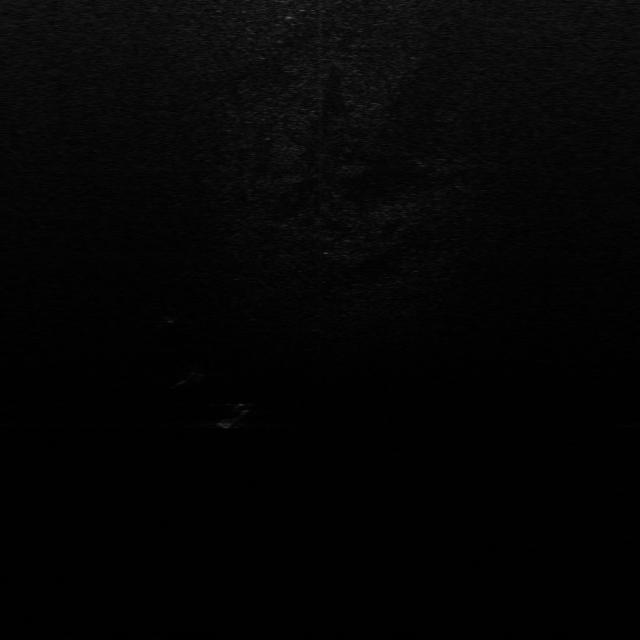ball: (182, 364, 210, 382)
circle cage: (162, 305, 186, 322)
tyre: (218, 402, 251, 426)
